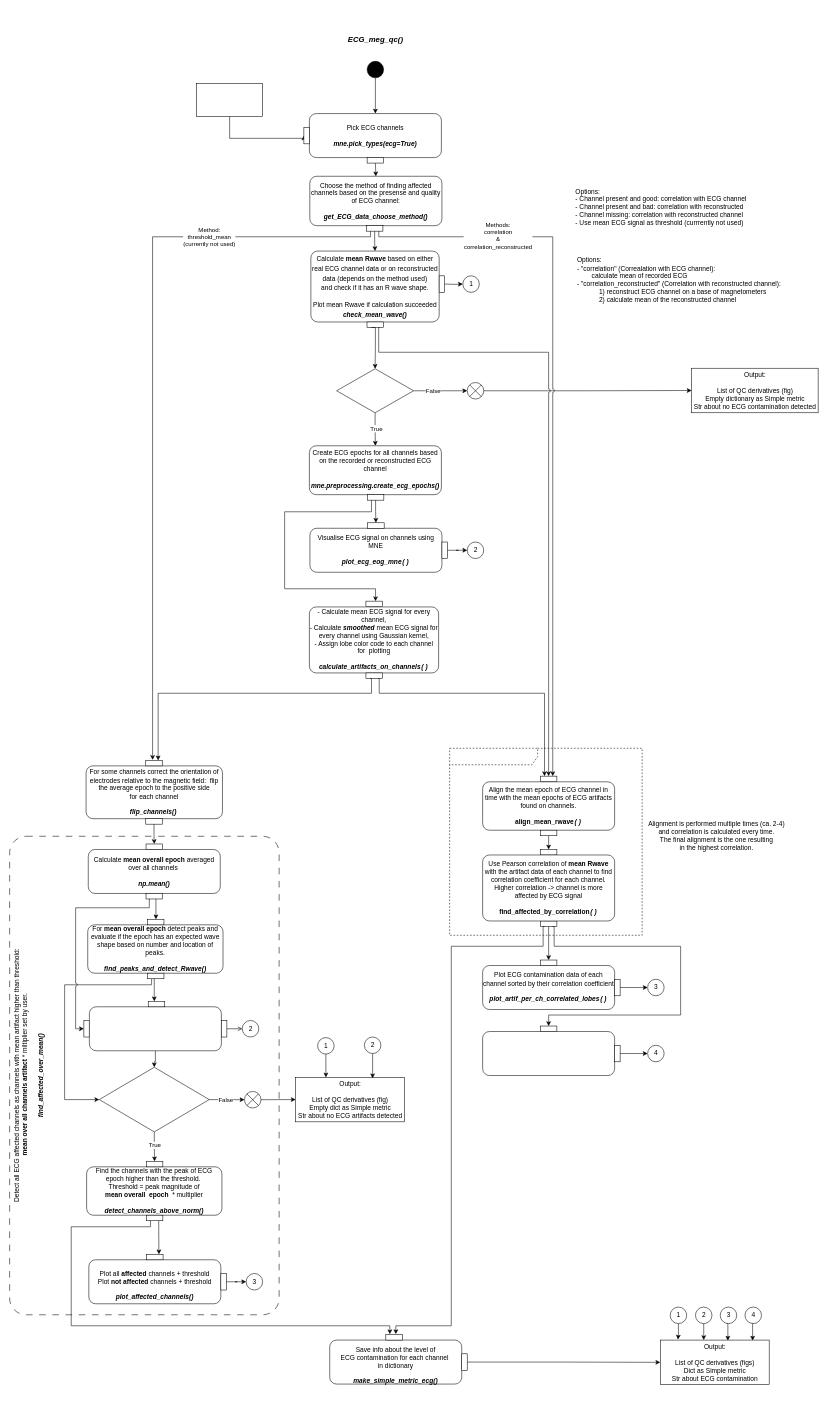
This 828x1407 diagram has some shape labels left out. Each missing label, with the centre of its shape:
"For all possible ECG alignment variations:" belongs at [545,841].
"Input: Raw data, Config parameters" belongs at [229,99].
"Mean overall epoch has expected shape (prominent peak at specific time point)?" belongs at [154,1099].
"Mean R wave is good?" belongs at [375,390].
"Plot correlation coefficient and p values for each channel plot_correlation ()" belongs at [548,1053].
"Plot mean overall epoch and highlight detected peaks plot_epoch_and_peak()" belongs at [155,1028].
